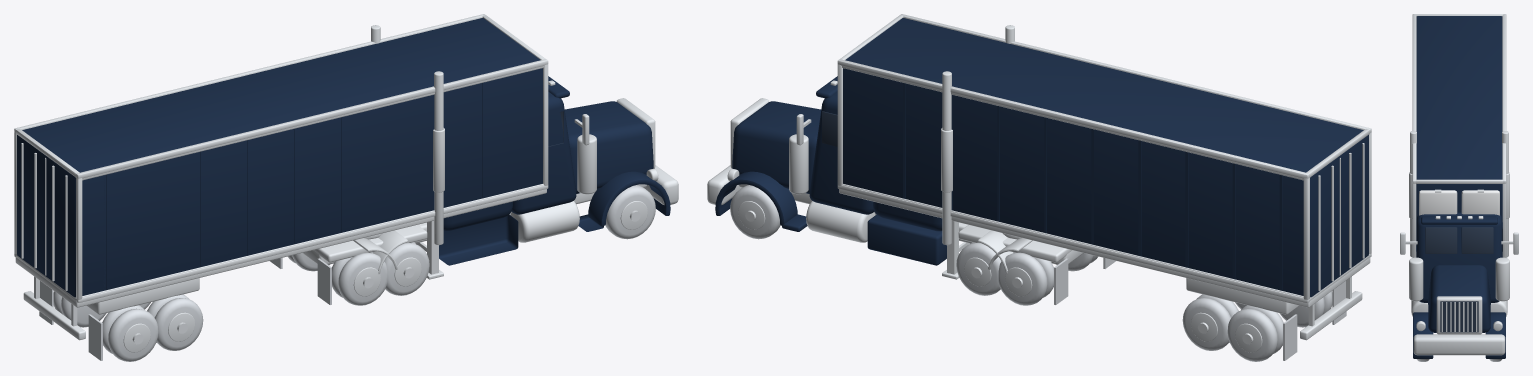
Rendered from trucks.glb.
3 renders of one model, left to right at view 1: azimuth 30°, elevation 25°; view 2: azimuth 150°, elevation 25°; view 3: azimuth 270°, elevation 25°, orthographic. The views are drawn at different scales.
Parts seen in each view (by area): view 1: Trailer_Paint, Tractor_Paint, TrailerGlass_Trim, Tractor_Trim, Trailer_Trim, Tractor_Tire, Trailer_Tire; view 2: Trailer_Paint, Tractor_Paint, TrailerGlass_Trim, Tractor_Trim, Trailer_Trim, Tractor_Tire, Trailer_Tire, Tractor_Window; view 3: Trailer_Paint, Tractor_Trim, Tractor_Paint, TrailerGlass_Trim, Tractor_Window, TrailerGlass_Cargo.
Part boxes in pixels (box(x1,y1,x2,y2)): Trailer_Paint: box(17, 18, 542, 297); Tractor_Paint: box(439, 76, 670, 265); TrailerGlass_Trim: box(14, 14, 548, 307); Tractor_Trim: box(302, 25, 678, 296); Trailer_Trim: box(21, 66, 543, 352); Tractor_Tire: box(270, 185, 655, 305); Trailer_Tire: box(39, 281, 203, 361); Trailer_Paint: box(843, 18, 1368, 297); Tractor_Paint: box(715, 76, 946, 265); TrailerGlass_Trim: box(837, 14, 1371, 307); Tractor_Trim: box(707, 25, 1083, 296); Trailer_Trim: box(842, 66, 1364, 352); Tractor_Tire: box(730, 185, 1115, 305); Trailer_Tire: box(1182, 281, 1346, 361); Tractor_Window: box(822, 111, 837, 146); Trailer_Paint: box(1416, 16, 1502, 257); Tractor_Trim: box(1400, 131, 1518, 355); Tractor_Paint: box(1413, 212, 1505, 358); TrailerGlass_Trim: box(1412, 14, 1506, 257); Tractor_Window: box(1416, 222, 1502, 332); TrailerGlass_Cargo: box(1419, 190, 1499, 215).
Bounding box in the file's own units: 4.76 × 1.63 × 1.11.
